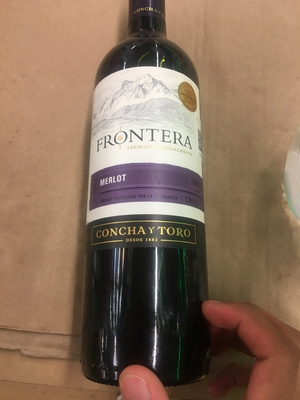frontera merlot: (78, 21, 217, 378)
